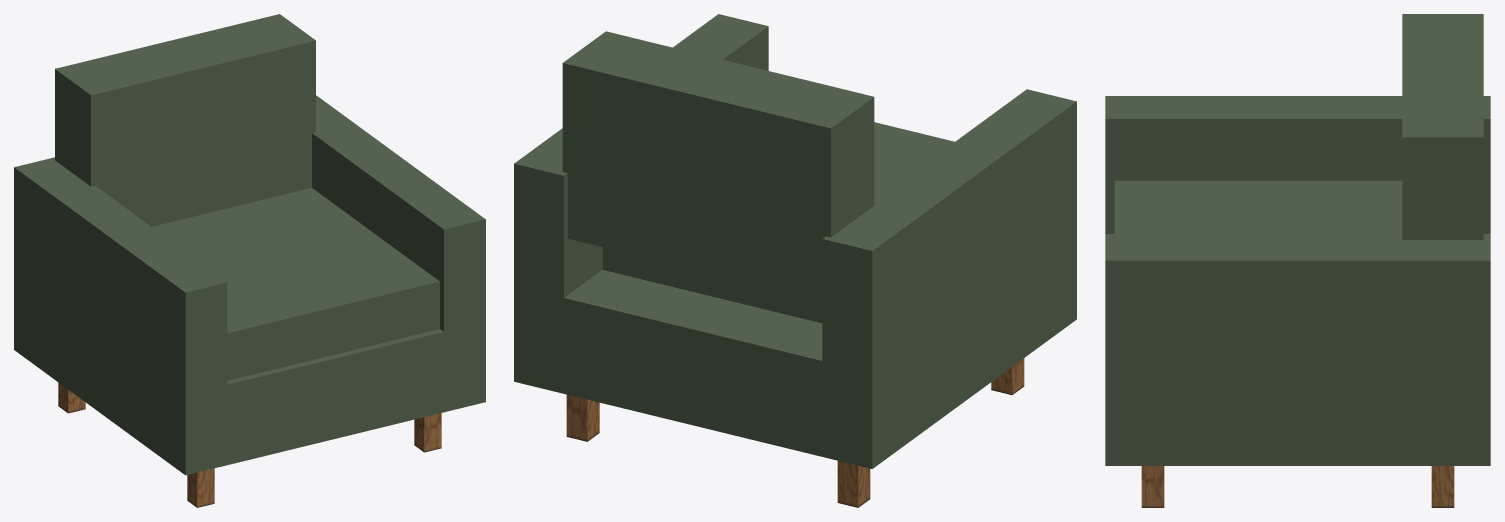
The model's file is Olvasofotel.obj.
3 renders of one model, left to right at view 1: azimuth 30°, elevation 25°; view 2: azimuth 150°, elevation 25°; view 3: azimuth 270°, elevation 25°, orthographic. The views are drawn at different scales.
Bounding box in the file's own units: 0.86 × 0.89 × 0.85.
2 materials, 1 textured.
